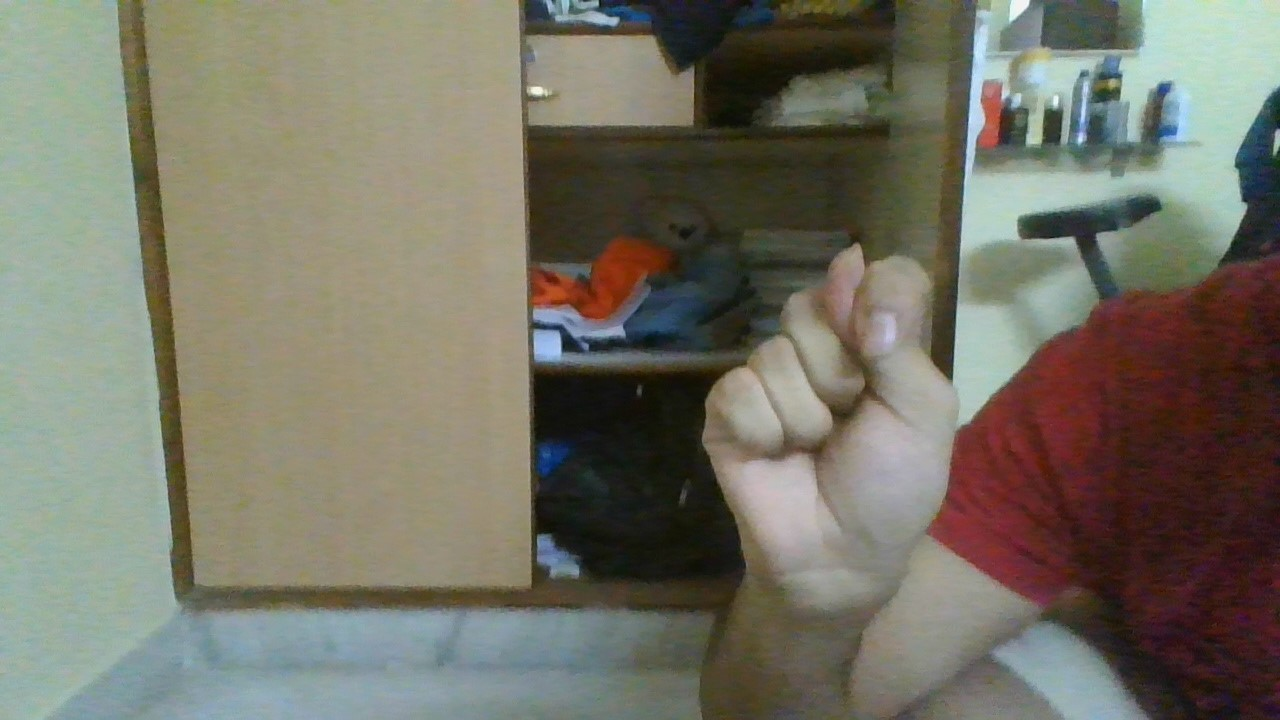t: (695, 237, 966, 610)
